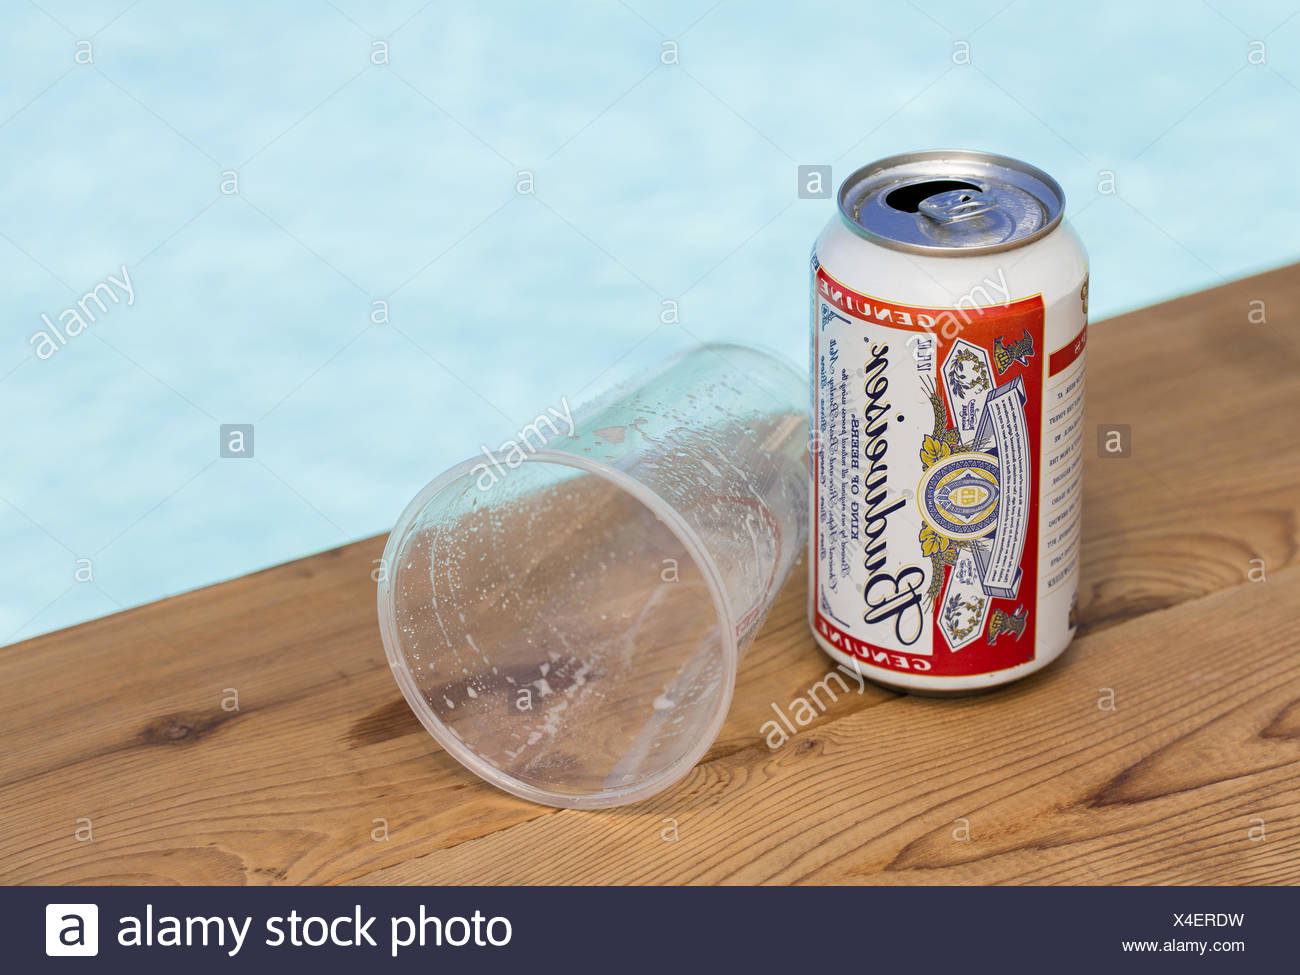beer can: (810, 143, 1083, 689)
